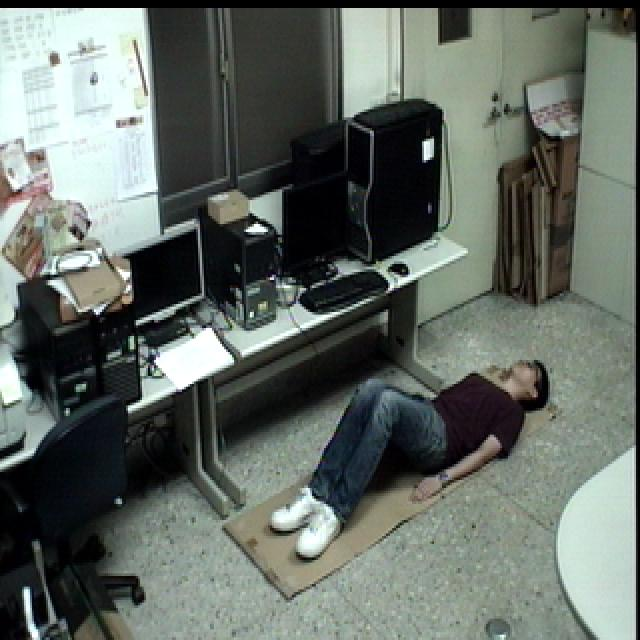lie: (269, 333, 553, 580)
